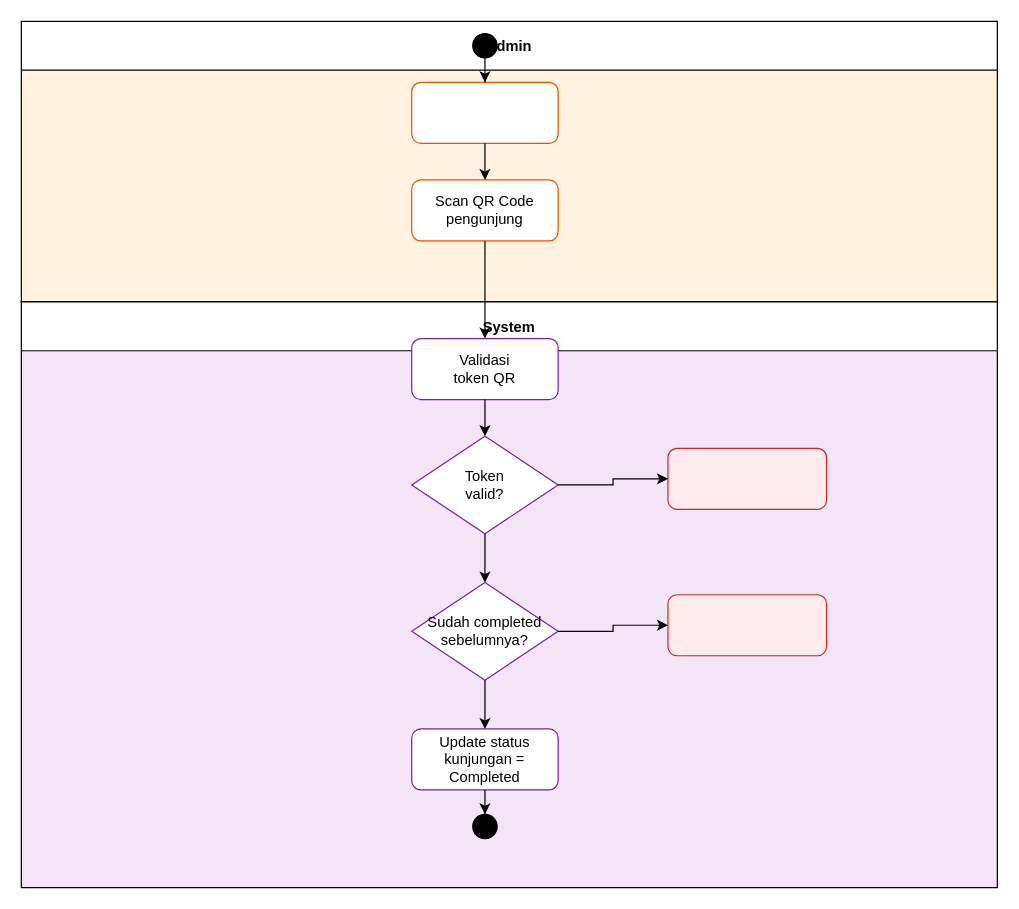
Image size: 1019x909. Some labels were removed from this diagram. Here are the shapes that lost their labels. From the top down, the box of each, then its label:
(411, 81, 558, 143): Admin buka scanner page
(667, 447, 827, 509): Tampilkan error: "Token tidak valid"
(667, 594, 827, 656): Tampilkan: "Sudah check-in sebelumnya"
